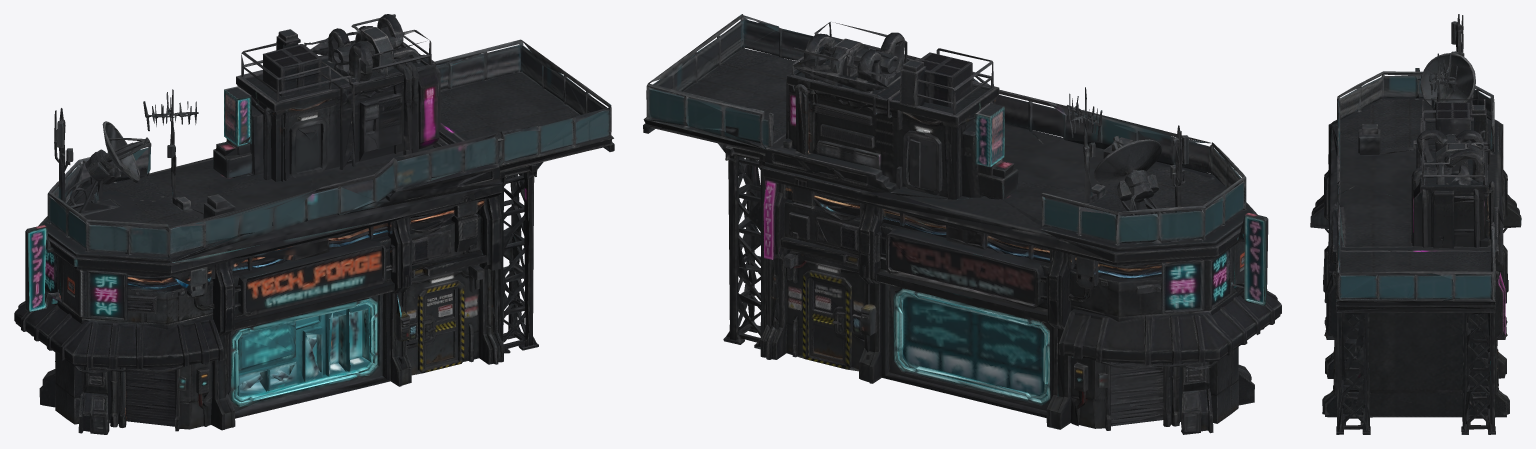
File: Meshy_AI_Modular_Cyberpunk_Fac_1103001207_texture.fbx
3 views of the same model, side by side, from view 1: azimuth 30°, elevation 25°; view 2: azimuth 150°, elevation 25°; view 3: azimuth 270°, elevation 25° (orthographic). The views are drawn at different scales.
Visible parts, largest first — view 1: output_unwrapped; view 2: output_unwrapped; view 3: output_unwrapped.
Boxes of the visible parts, bbox=[...] form: output_unwrapped: bbox=[14, 14, 614, 434]; output_unwrapped: bbox=[643, 14, 1281, 434]; output_unwrapped: bbox=[1310, 14, 1521, 434].
Size of the model in its own units: 1727 by 900 by 672.
1 material, 1 textured.
